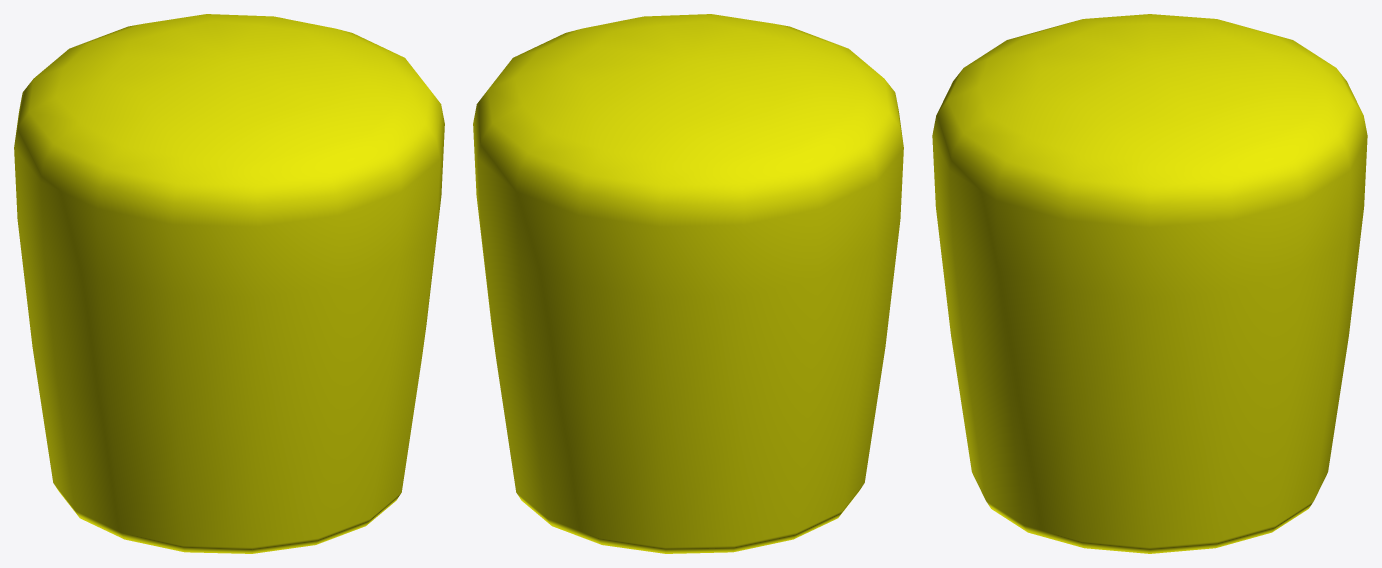
The model's file is Lanteren.fbx.
3 views of the same model, side by side, from view 1: azimuth 30°, elevation 25°; view 2: azimuth 150°, elevation 25°; view 3: azimuth 270°, elevation 25° (orthographic).
Visible parts, largest first — view 1: SHADE; view 2: SHADE; view 3: SHADE.
Part boxes in pixels (x1=…): SHADE: x1=14, y1=14, x2=444, y2=553; SHADE: x1=473, y1=14, x2=903, y2=553; SHADE: x1=932, y1=14, x2=1367, y2=553.
Bounding box in the file's own units: 202 × 221 × 202.
